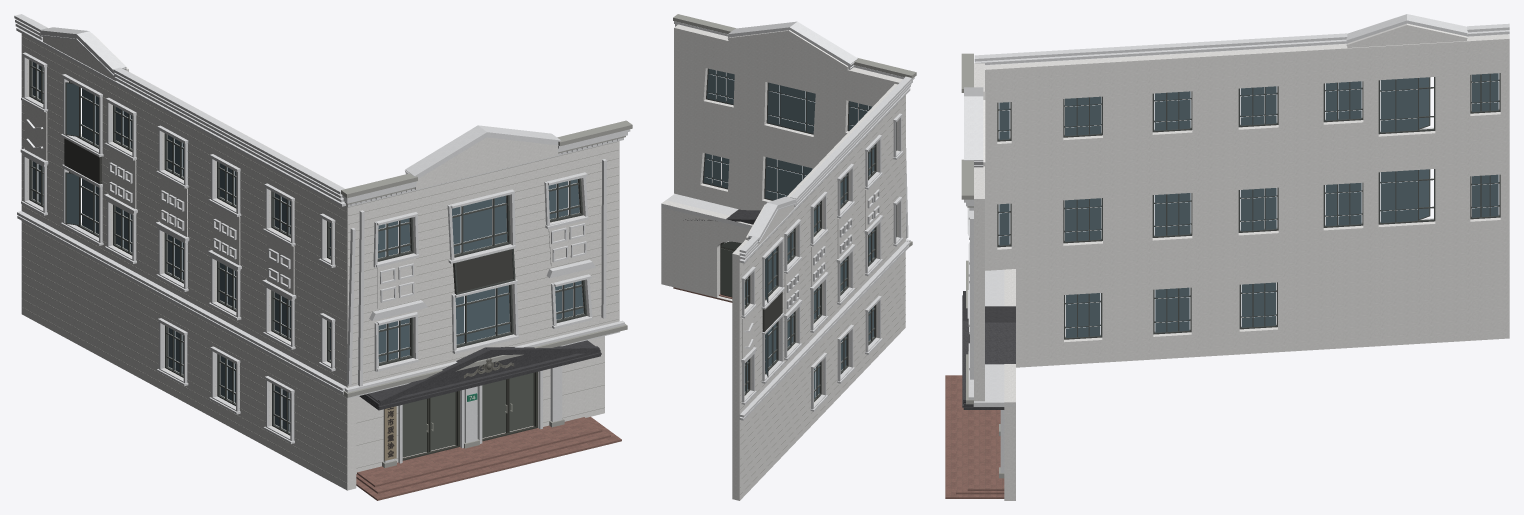
The model's file is full-source.glb.
3 views of the same model, side by side, from view 1: azimuth 30°, elevation 25°; view 2: azimuth 150°, elevation 25°; view 3: azimuth 270°, elevation 25° (orthographic). The views are drawn at different scales.
Visible parts, largest first — view 1: 泰安路74号上海市质量协会临街面; view 2: 泰安路74号上海市质量协会临街面; view 3: 泰安路74号上海市质量协会临街面.
Boxes of the visible parts, box(x1,y1,x2,y2) form: 泰安路74号上海市质量协会临街面: box(14, 14, 632, 500); 泰安路74号上海市质量协会临街面: box(661, 14, 916, 500); 泰安路74号上海市质量协会临街面: box(945, 14, 1509, 500).
Bounding box in the file's own units: 15.31 × 13.93 × 20.96.
16 materials, 4 textured.
